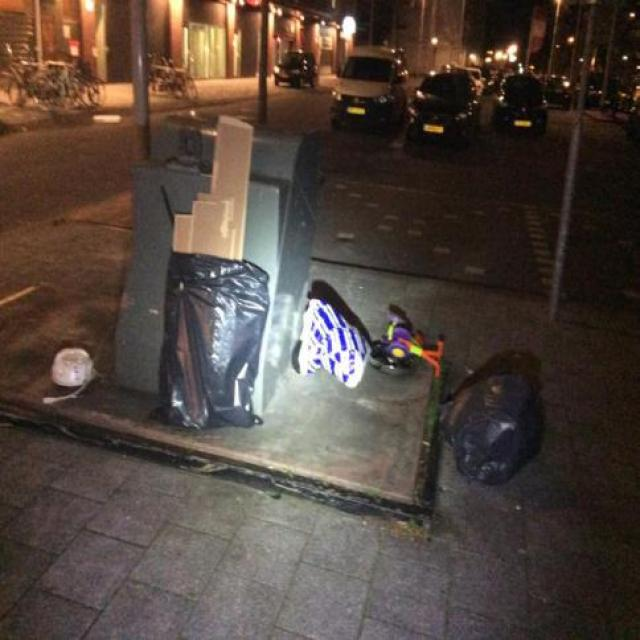Anorganik: (152, 234, 276, 433), (446, 336, 547, 487)
